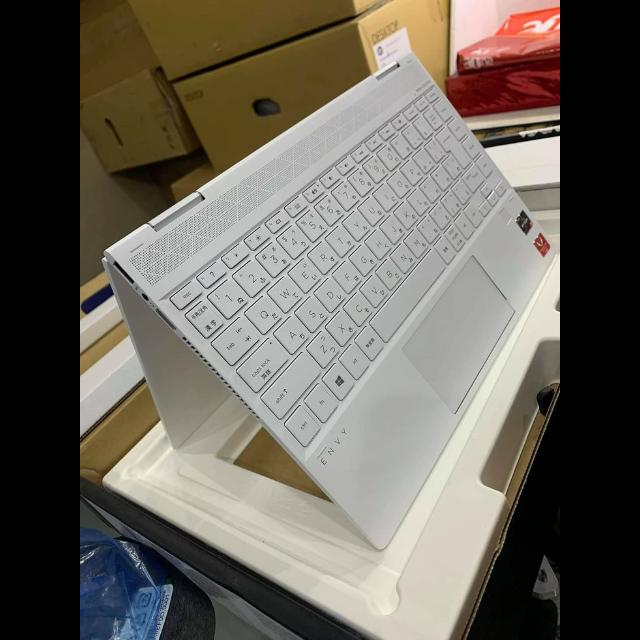laptop: (82, 54, 560, 560)
